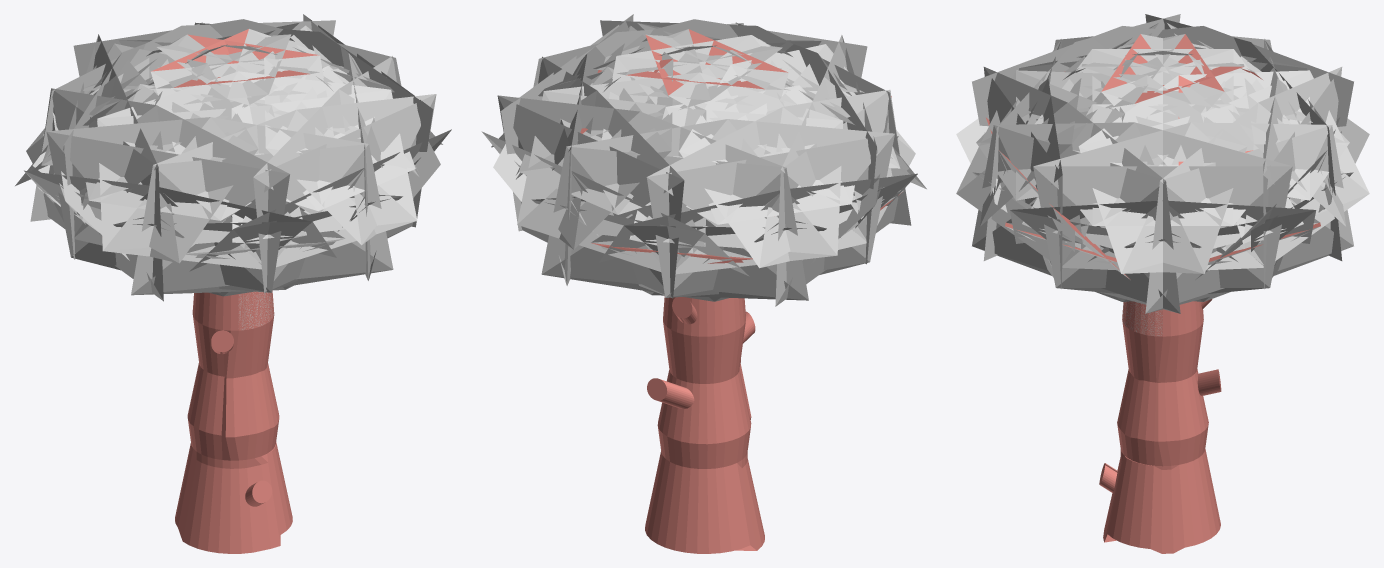
The model's file is TREEEE.fbx.
3 renders of one model, left to right at view 1: azimuth 30°, elevation 25°; view 2: azimuth 150°, elevation 25°; view 3: azimuth 270°, elevation 25°, orthographic. The views are drawn at different scales.
Visible parts, largest first — view 1: Cylinder.001, Cylinder; view 2: Cylinder.001, Cylinder; view 3: Cylinder.001, Cylinder.
Boxes of the visible parts, left/top/right/bottom form: Cylinder.001: left=15, top=14, right=451, bottom=301; Cylinder: left=151, top=29, right=319, bottom=553; Cylinder.001: left=481, top=14, right=926, bottom=306; Cylinder: left=580, top=29, right=902, bottom=553; Cylinder.001: left=956, top=14, right=1369, bottom=313; Cylinder: left=986, top=34, right=1320, bottom=553.
Size of the model in its own units: 1028 by 1225 by 976.
